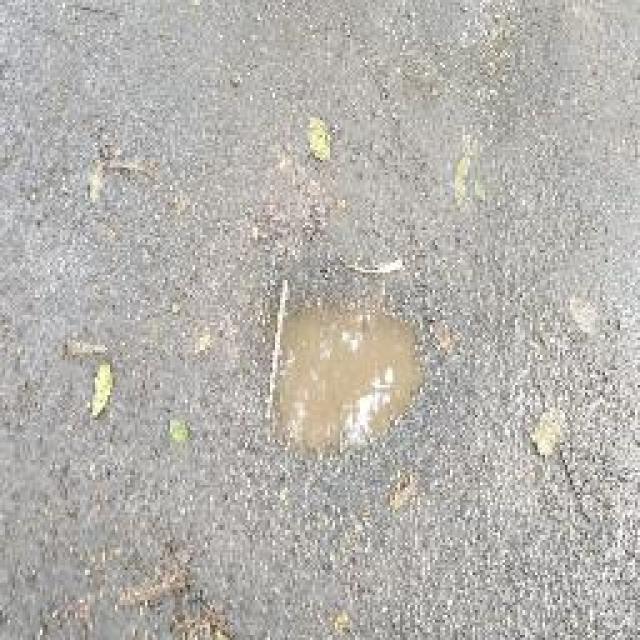puddle: (263, 282, 433, 465)
